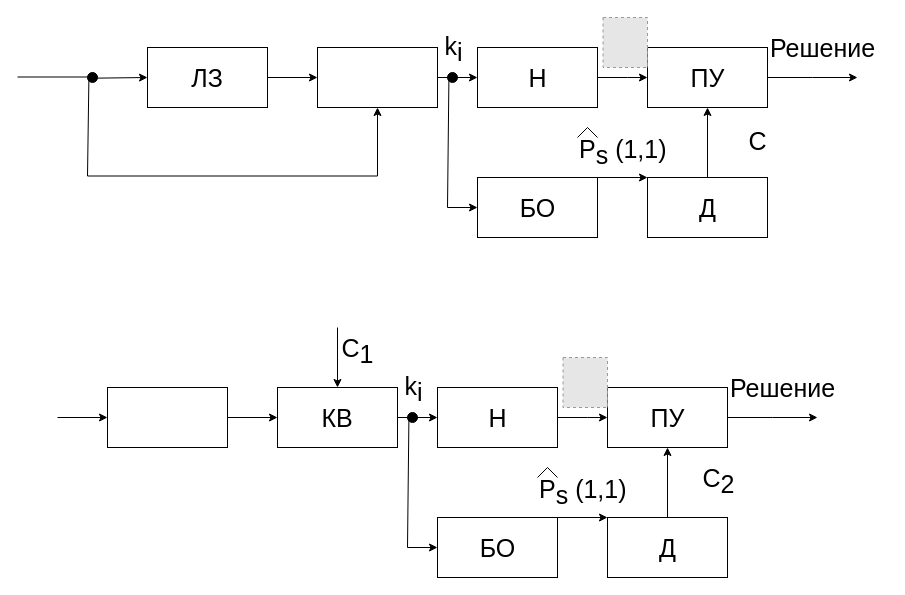
Some shapes in this 905 by 595 pixel diagram are drawn without their labels. Grey dashed boxes stand in for pictures. Each missing label, with the centre of its shape:
"ВР" goes at point 167,417.
"СС" goes at point 377,77.
